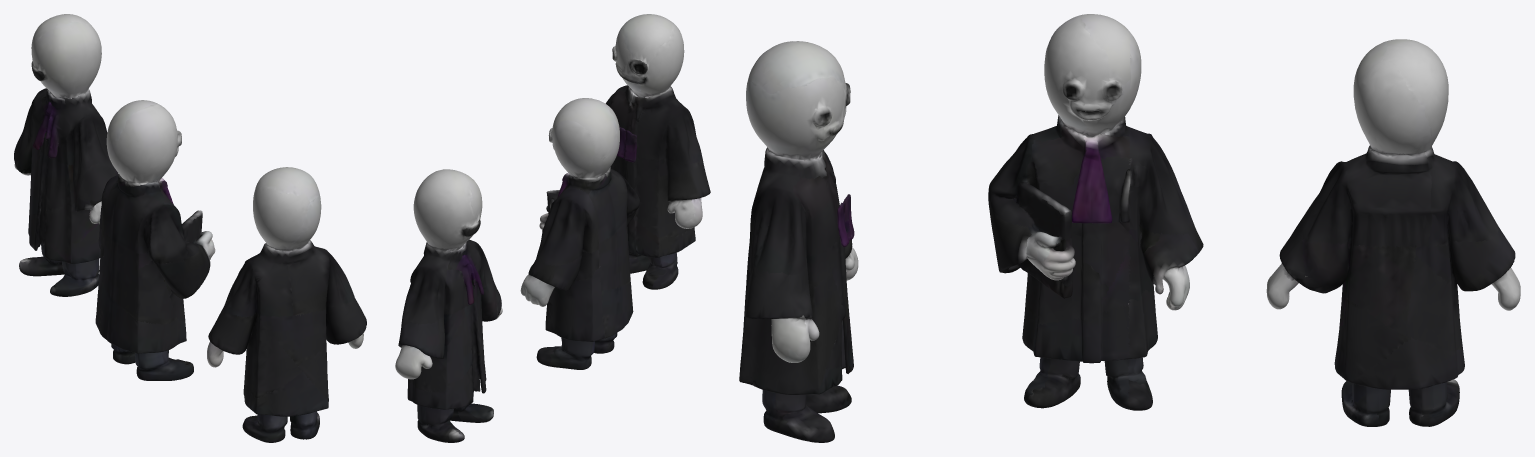
The model's file is defendant-counsel.glb.
3 views of the same model, side by side, from view 1: azimuth 30°, elevation 25°; view 2: azimuth 150°, elevation 25°; view 3: azimuth 270°, elevation 25° (orthographic). The views are drawn at different scales.
Parts seen in each view (by area): view 1: tripo_node_ec2f908e-45fc-4769-a8b3-851b6cd9d5a6; view 2: tripo_node_ec2f908e-45fc-4769-a8b3-851b6cd9d5a6; view 3: tripo_node_ec2f908e-45fc-4769-a8b3-851b6cd9d5a6.
Part boxes in pixels (x1=…): tripo_node_ec2f908e-45fc-4769-a8b3-851b6cd9d5a6: x1=14, y1=14, x2=366, y2=442; tripo_node_ec2f908e-45fc-4769-a8b3-851b6cd9d5a6: x1=395, y1=14, x2=710, y2=442; tripo_node_ec2f908e-45fc-4769-a8b3-851b6cd9d5a6: x1=739, y1=14, x2=1520, y2=442.
Size of the model in its own units: 1 by 1.7 by 3.22.
Materials: 1 (1 with a texture image).
